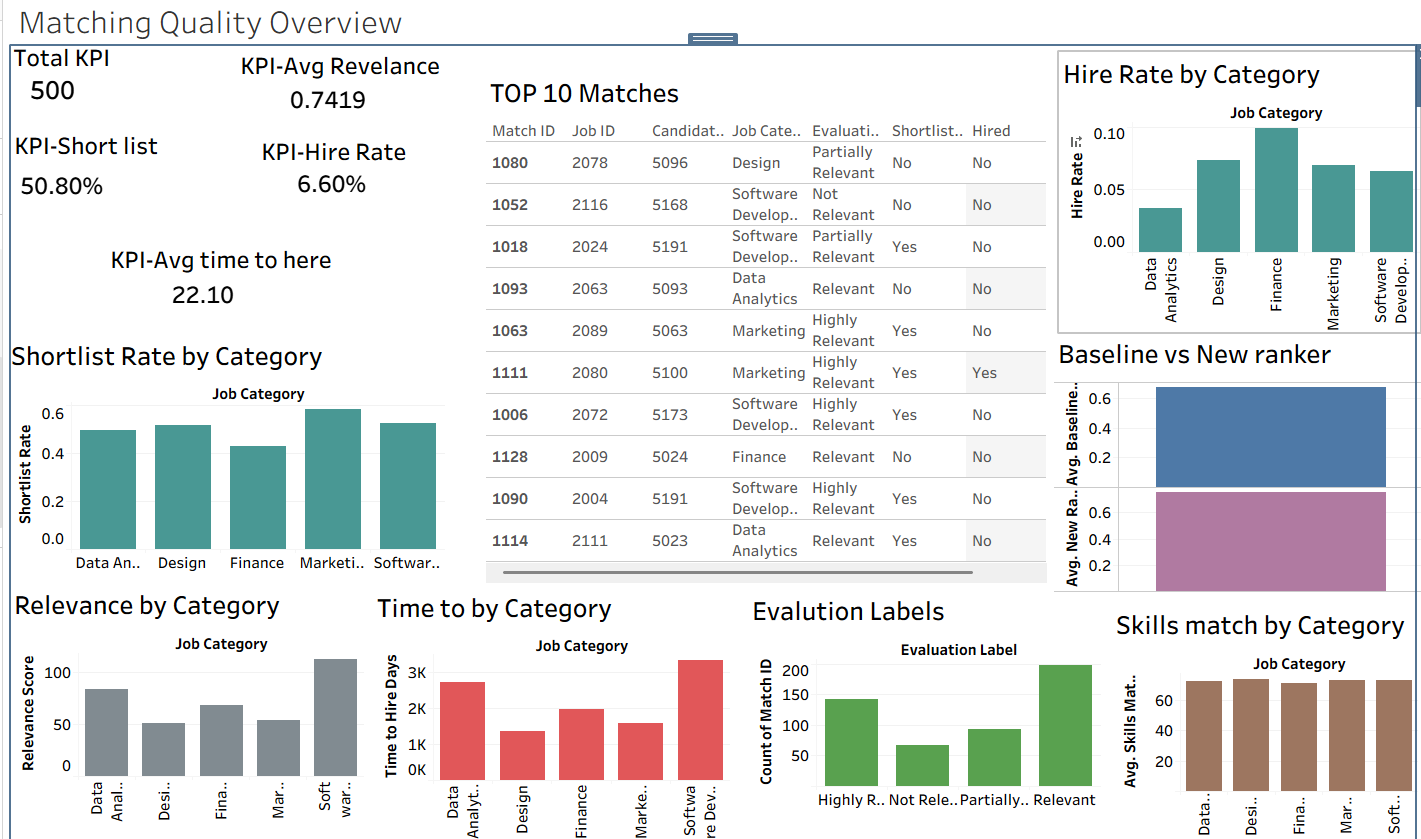

Layout of this report page (visuals, bound fields, positions):
{"tool":"tableau","page":{"name":"Dashboard 1","canvas":[1420,860],"ordinal":0},"visuals":[{"type":"title","box":[8,8,1404,50]},{"type":"text","box":[7,33,384,72]},{"type":"text","box":[234,61,207,32]},{"type":"worksheet","title":"Sheet 8","mark":"Bar","rows":["Calculation_1620714624819202"],"cols":["Job_Category"],"box":[1056,64,361,280]},{"type":"worksheet","title":"Sheet 14","mark":"Text","rows":["Match_ID","Job_ID","Candidate_ID","Job_Category","Evaluation_Label","Shortlisted","Hired"],"box":[483,83,561,522]},{"type":"worksheet","title":"Sheet 1","mark":"Automatic","box":[16,91,479,223]},{"type":"worksheet","title":"Sheet 2","mark":"Automatic","box":[267,95,236,67]},{"type":"text","box":[8,134,151,46]},{"type":"text","box":[255,146,152,34]},{"type":"worksheet","title":"Sheet 4","mark":"Automatic","box":[287,179,244,73]},{"type":"worksheet","title":"Sheet 3","mark":"Automatic","box":[4,181,353,41]},{"type":"text","box":[104,253,229,35]},{"type":"worksheet","title":"Sheet 5","mark":"Automatic","box":[155,290,128,82]},{"type":"worksheet","title":"Sheet 11","mark":"Automatic","rows":["Baseline_Score","New_Ranker_Score"],"box":[1051,344,371,260]},{"type":"worksheet","title":"Sheet 7","mark":"Automatic","rows":["Calculation_1620714622726145"],"cols":["Job_Category"],"box":[4,346,438,255]},{"type":"worksheet","title":"Sheet 6","mark":"Automatic","rows":["Relevance_Score"],"cols":["Job_Category"],"box":[7,595,354,241]},{"type":"worksheet","title":"Sheet 9","mark":"Automatic","rows":["Time_to_Hire_Days"],"cols":["Job_Category"],"box":[370,598,357,254]},{"type":"worksheet","title":"Sheet 10","mark":"Automatic","rows":["Match_ID"],"cols":["Evaluation_Label"],"box":[745,601,353,237]},{"type":"worksheet","title":"Sheet 12","mark":"Automatic","rows":["Skills_Match_Pct"],"cols":["Job_Category"],"box":[1109,615,306,234]}]}

Visuals, with their boxes in screenshot pixels (x1, y1, x2, y2), scaled from the page's 1420x860 canvas onto the 1421x839 screenshot:
title: (x1=8, y1=8, x2=1413, y2=57)
text: (x1=7, y1=32, x2=391, y2=102)
text: (x1=234, y1=60, x2=441, y2=91)
"Sheet 8" worksheet (Bar marks): (x1=1057, y1=62, x2=1418, y2=336)
"Sheet 14" worksheet (Text marks): (x1=483, y1=81, x2=1045, y2=590)
"Sheet 1" worksheet: (x1=16, y1=89, x2=495, y2=306)
"Sheet 2" worksheet: (x1=267, y1=93, x2=503, y2=158)
text: (x1=8, y1=131, x2=159, y2=176)
text: (x1=255, y1=142, x2=407, y2=176)
"Sheet 4" worksheet: (x1=287, y1=175, x2=531, y2=246)
"Sheet 3" worksheet: (x1=4, y1=177, x2=357, y2=217)
text: (x1=104, y1=247, x2=333, y2=281)
"Sheet 5" worksheet: (x1=155, y1=283, x2=283, y2=363)
"Sheet 11" worksheet: (x1=1052, y1=336, x2=1420, y2=589)
"Sheet 7" worksheet: (x1=4, y1=338, x2=442, y2=586)
"Sheet 6" worksheet: (x1=7, y1=580, x2=361, y2=816)
"Sheet 9" worksheet: (x1=370, y1=583, x2=728, y2=831)
"Sheet 10" worksheet: (x1=746, y1=586, x2=1099, y2=818)
"Sheet 12" worksheet: (x1=1110, y1=600, x2=1416, y2=828)
